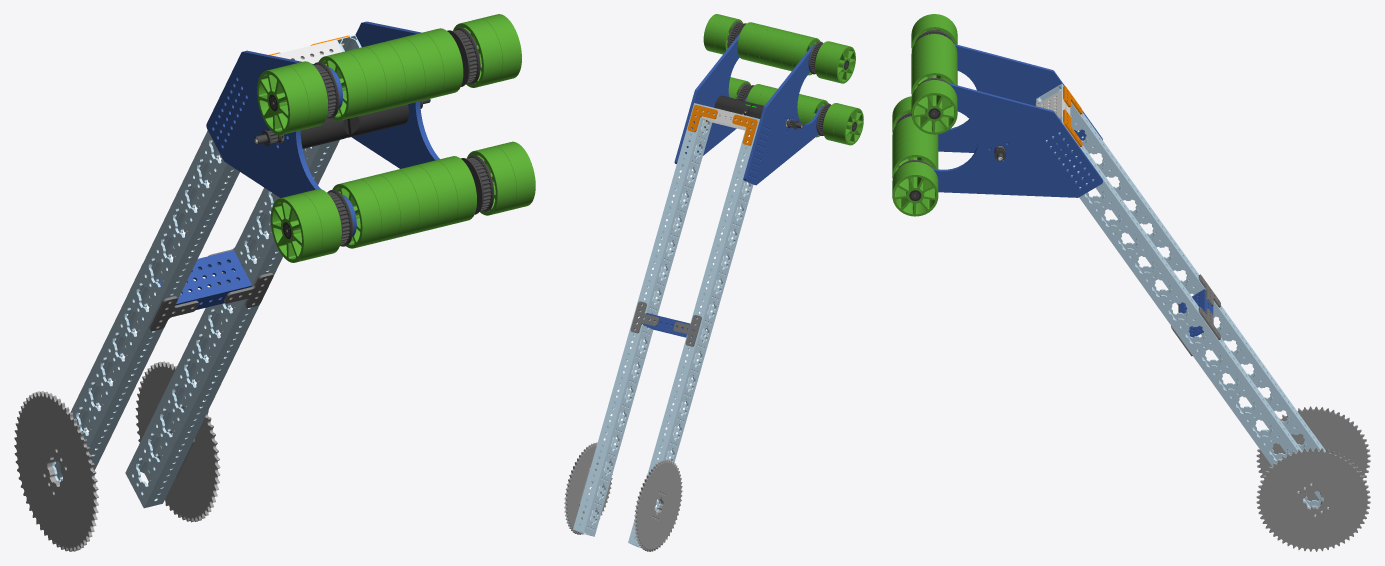
3 views of the same model, side by side, from view 1: azimuth 30°, elevation 25°; view 2: azimuth 150°, elevation 25°; view 3: azimuth 270°, elevation 25° (orthographic). The views are drawn at different scales.
Visible parts, largest first — view 1: 3" Compliant Wheel (35A, 1" Wide, 1/2" Hex Bore) (×20), Tube 2"x1"x35" (×2), Part 8 (×2), Part 2 (×2), Tube 2"x1"x4" (×2), 40T HTD Pulley (×4), Kraken X44 Brushless Motor (×2), Part 7 (×2); view 2: Tube 2"x1"x35" (×2), 3" Compliant Wheel (35A, 1" Wide, 1/2" Hex Bore) (×13), Part 2 (×2), Part 8 (×2), Part 7 (×2), Tube 2"x1"x4" (×2), Part 6 (×2), Kraken X44 Brushless Motor; view 3: Tube 2"x1"x35" (×2), Part 2 (×2), Part 8 (×2), 3" Compliant Wheel (35A, 1" Wide, 1/2" Hex Bore) (×2).
Part boxes in pixels (x1,y1,x2,y2): 3" Compliant Wheel (35A, 1" Wide, 1/2" Hex Bore) (×20): [257, 14, 535, 262]; Tube 2"x1"x35" (×2): [52, 35, 361, 508]; Part 8 (×2): [14, 361, 220, 551]; Part 2 (×2): [206, 21, 439, 236]; Tube 2"x1"x4" (×2): [158, 39, 342, 309]; 40T HTD Pulley (×4): [313, 27, 494, 246]; Kraken X44 Brushless Motor (×2): [255, 104, 408, 148]; Part 7 (×2): [149, 273, 273, 331]; Tube 2"x1"x35" (×2): [573, 103, 759, 548]; 3" Compliant Wheel (35A, 1" Wide, 1/2" Hex Bore) (×13): [703, 14, 863, 145]; Part 2 (×2): [674, 33, 822, 185]; Part 8 (×2): [564, 442, 682, 551]; Part 7 (×2): [630, 301, 701, 346]; Tube 2"x1"x4" (×2): [643, 105, 748, 337]; Part 6 (×2): [687, 105, 757, 145]; Kraken X44 Brushless Motor: [714, 95, 754, 119]; Tube 2"x1"x35" (×2): [1036, 84, 1354, 546]; Part 2 (×2): [932, 44, 1102, 197]; Part 8 (×2): [1256, 406, 1370, 551]; 3" Compliant Wheel (35A, 1" Wide, 1/2" Hex Bore) (×2): [892, 86, 957, 216].
Bounding box in the file's own units: 0.308 × 0.869 × 0.7891.
